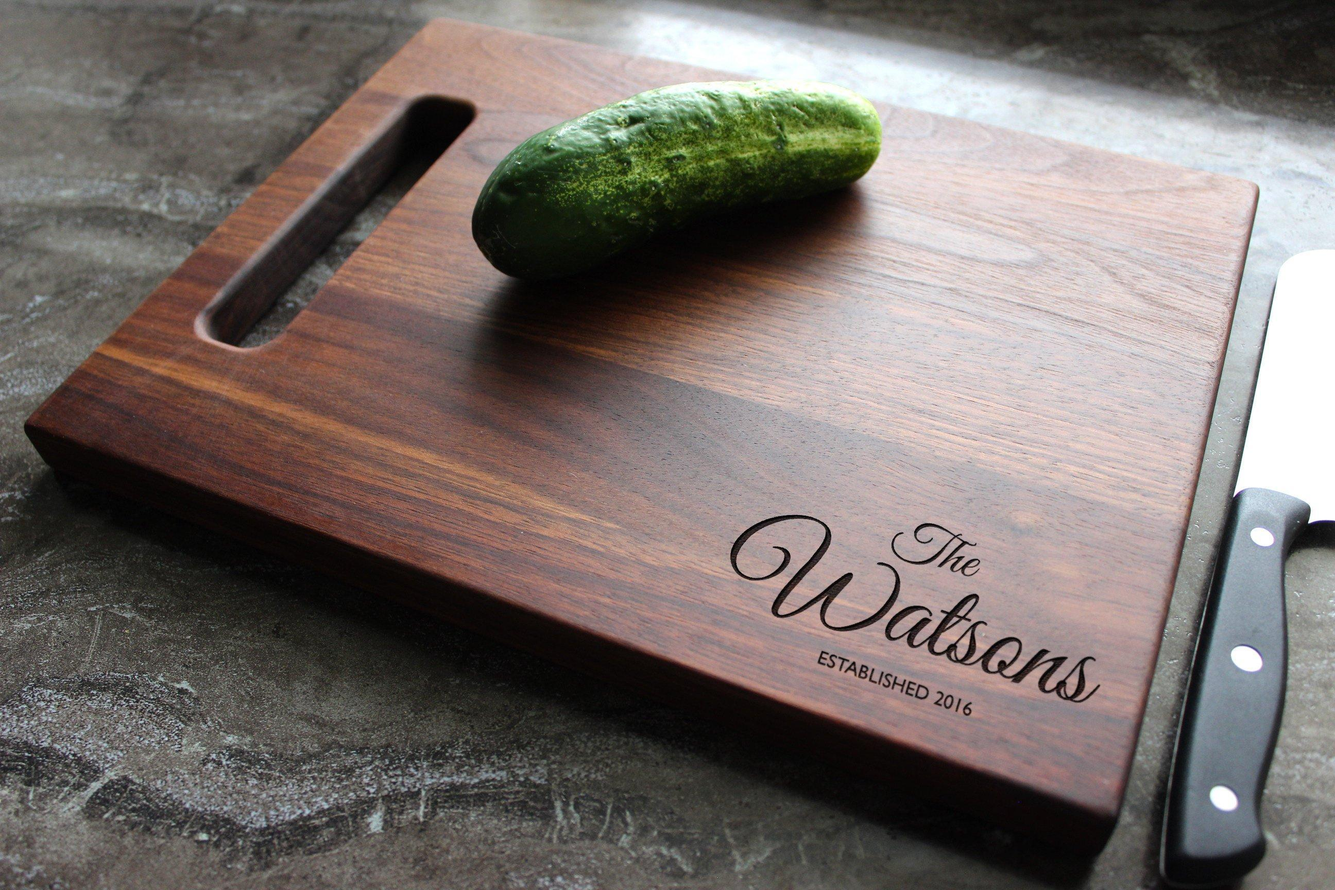gloved_hand: (19, 6, 1276, 865)
